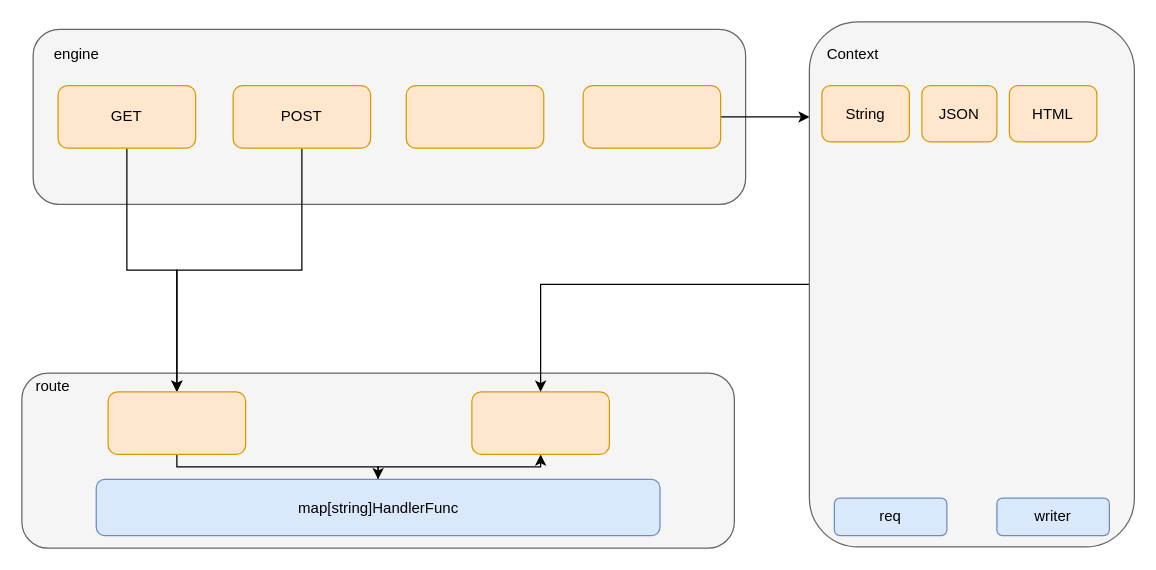
This 1156x570 diagram has some shape labels left out. Each missing label, with the centre of its shape:
AddRoute: the point at 176,422
Handle: the point at 540,422
RUN: the point at 474,116
ServeHTTP: the point at 651,116
